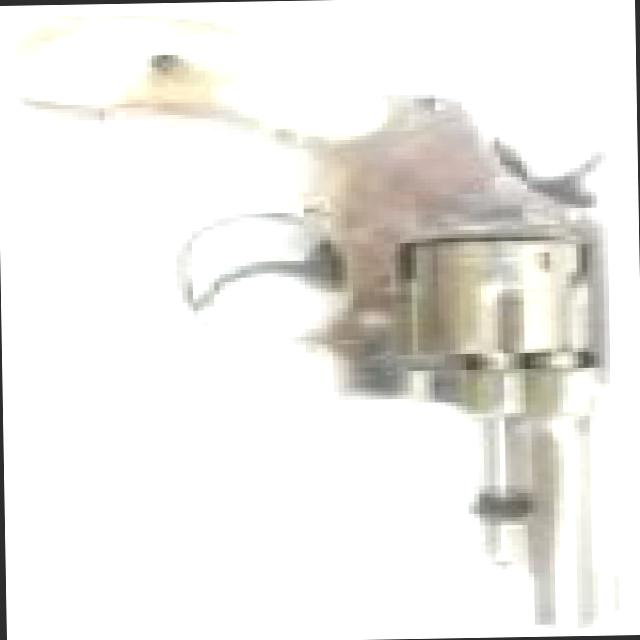handgun: (38, 10, 634, 632)
